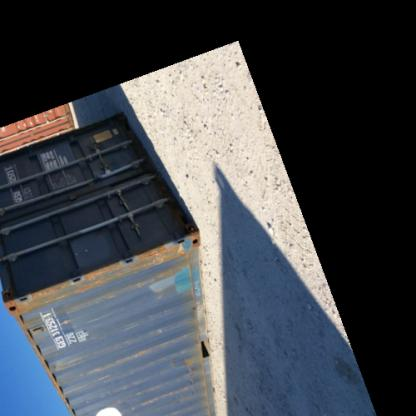Damage: (87, 240, 182, 286), (10, 270, 84, 314), (110, 376, 172, 412), (103, 342, 155, 368), (173, 352, 199, 396), (44, 351, 84, 373), (142, 318, 190, 334), (55, 316, 79, 329)
